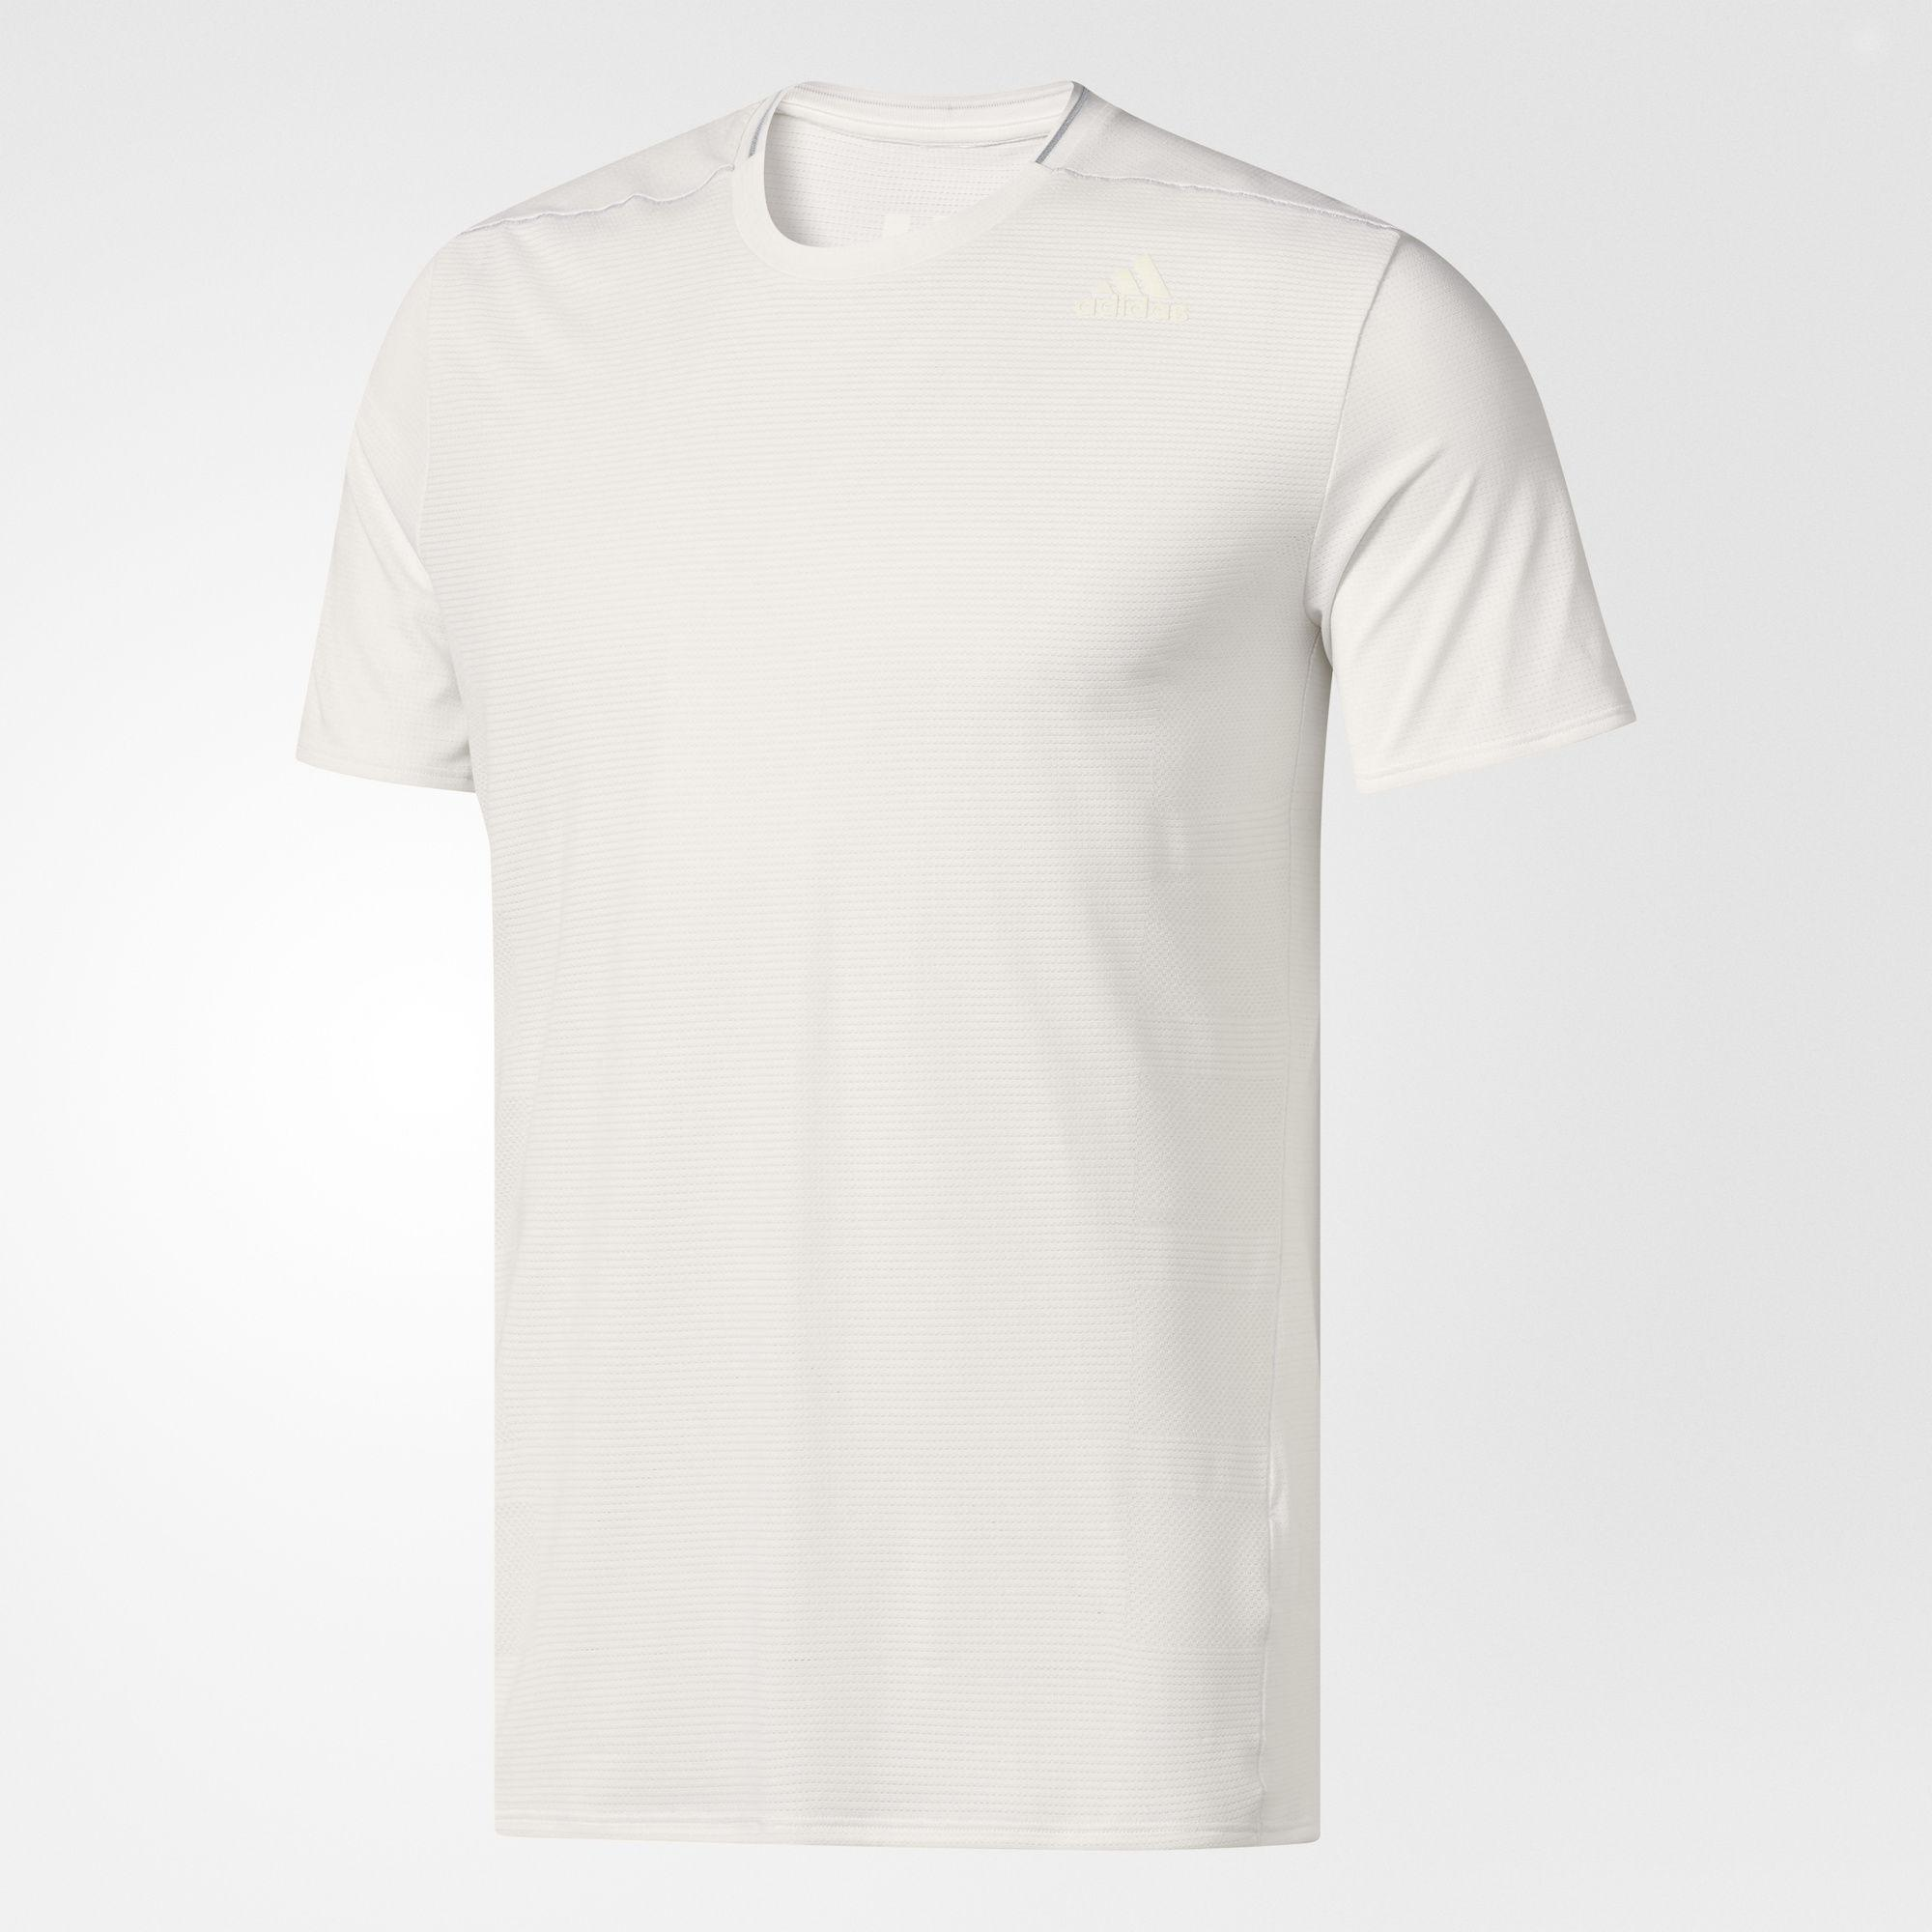teeshirt: (265, 76, 1714, 1863)
